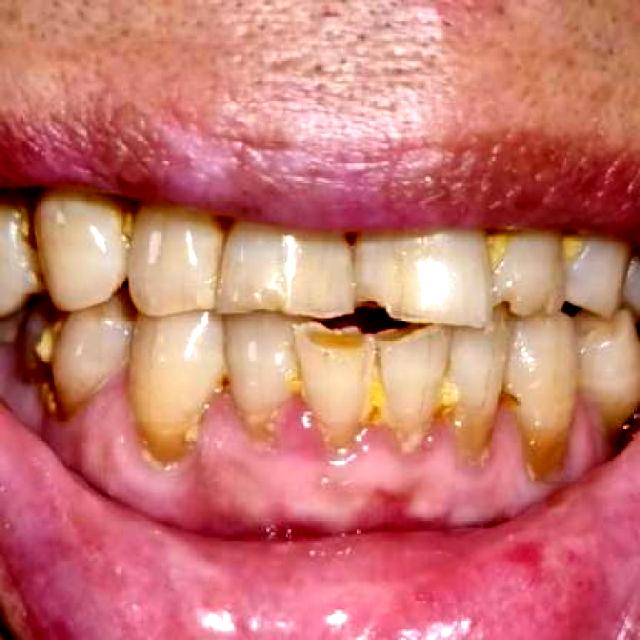Plaque: (1, 336, 612, 503)
